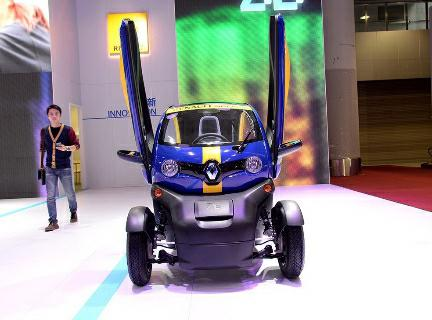雷诺-Twizy: (115, 100, 315, 291)
